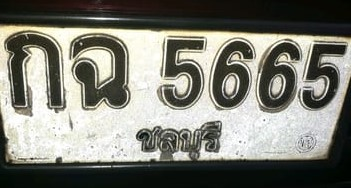txt01: (3, 29, 67, 111)
txt07: (68, 32, 132, 113)
